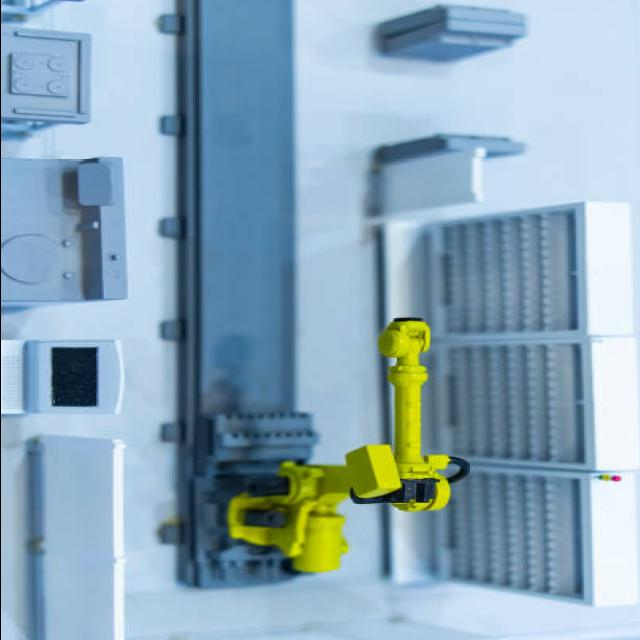Robotic-arm: (212, 316, 466, 586)
